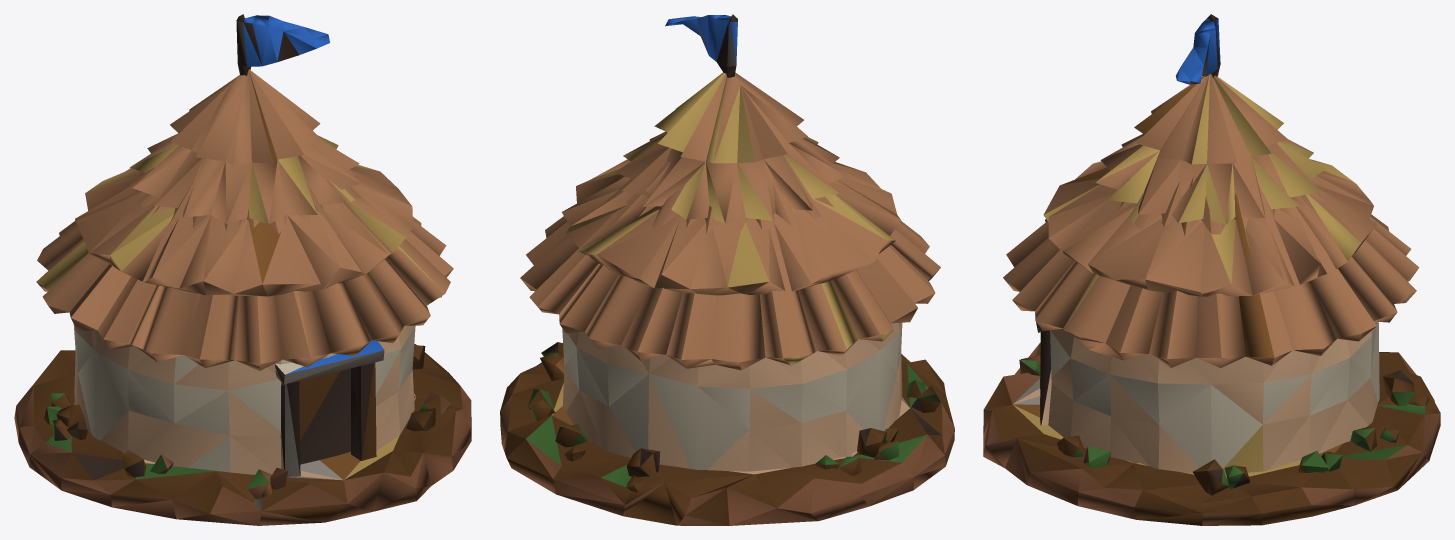
File: building.dwelling_small_v3.glb
3 views of the same model, side by side, from view 1: azimuth 30°, elevation 25°; view 2: azimuth 150°, elevation 25°; view 3: azimuth 270°, elevation 25° (orthographic).
Visible parts, largest first — view 1: asset; view 2: asset; view 3: asset.
Part boxes in pixels (x1,y1,x2,y2): asset: (14,14,471,525); asset: (500,14,954,525); asset: (983,14,1440,525).
Bounding box in the file's own units: 1.8 × 1.8 × 1.8.
